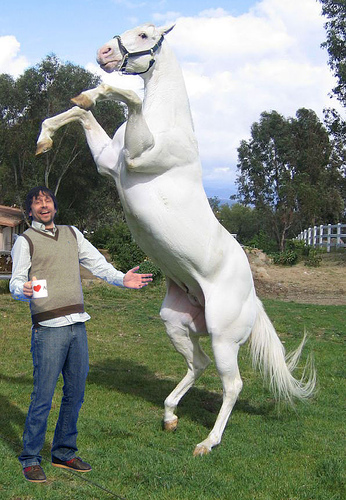without_mask: (26, 190, 59, 227)
